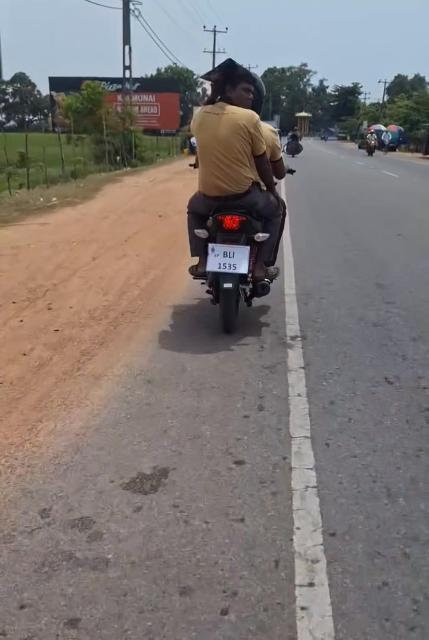no helmet: (214, 69, 255, 113)
number plate: (208, 245, 253, 275)
